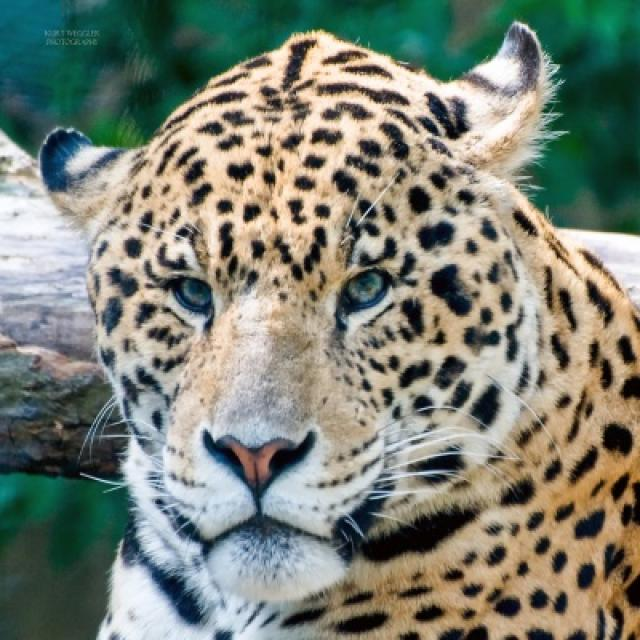Jaguar: (3, 22, 638, 638)
